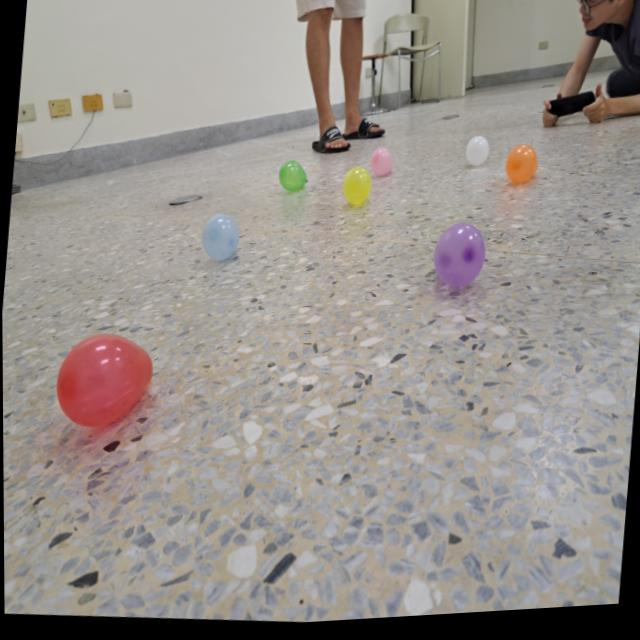other: (430, 223, 488, 298), (199, 213, 243, 265), (503, 148, 541, 193), (340, 167, 373, 212), (277, 161, 308, 197), (463, 138, 491, 174), (370, 151, 396, 181)
red: (51, 326, 156, 437)
